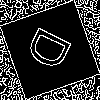D: (25, 25, 81, 77)
